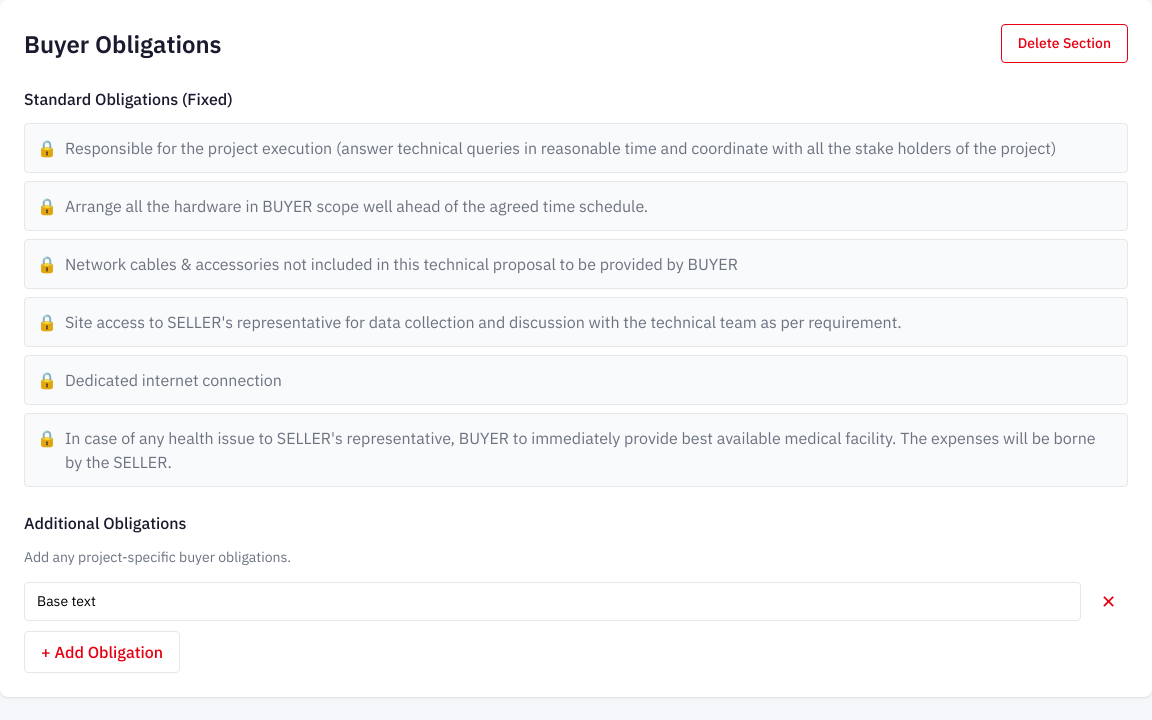
Test: BuyerObligationsSection Preservation - Manual Input Behavior › Property 4: Preservation - Manual Edit Operation › should handle partial edits (append, prepend, insert)
This screenshot has width=1152, height=720.
// User appends text
Type " with addition" into the field with placeholder "Item 1" at (552, 602), box [24,582,1081,621]
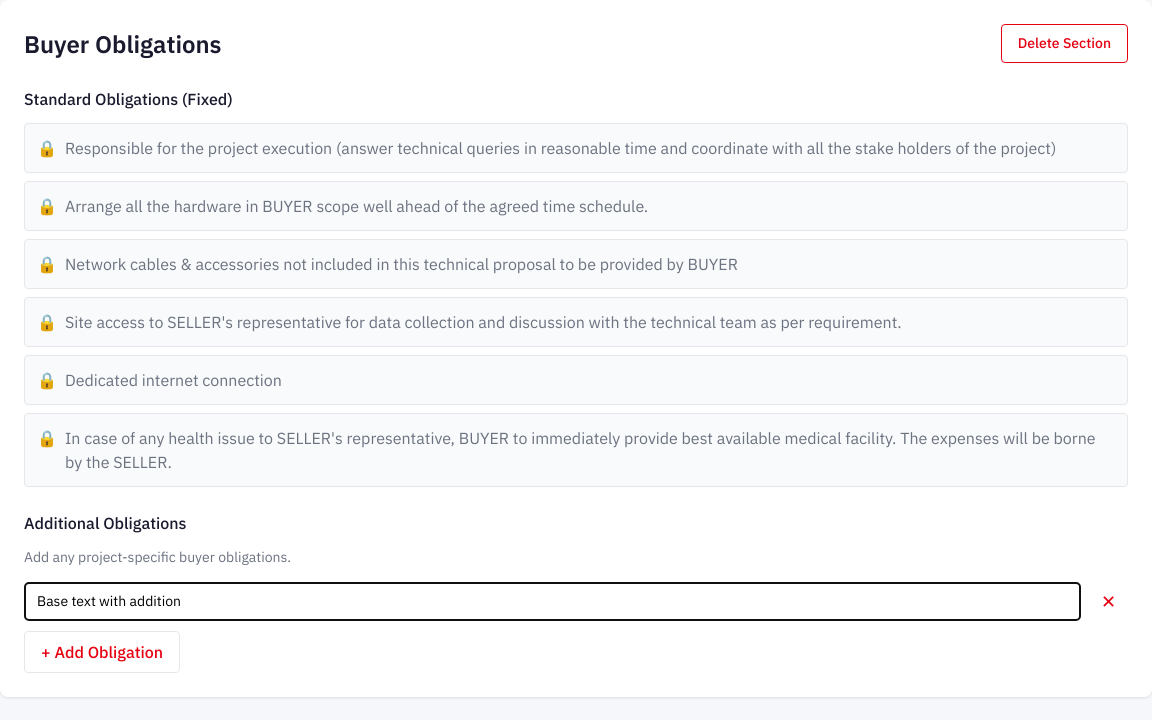
Check: the field with placeholder "Item 1" holds "Base text with addition", box [24,582,1081,621]
